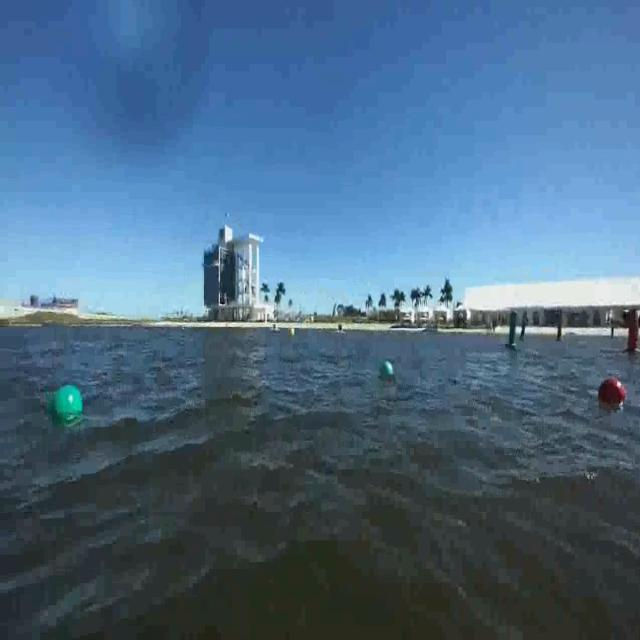green-buoy: (49, 383, 88, 424)
red-buoy: (594, 374, 628, 410)
